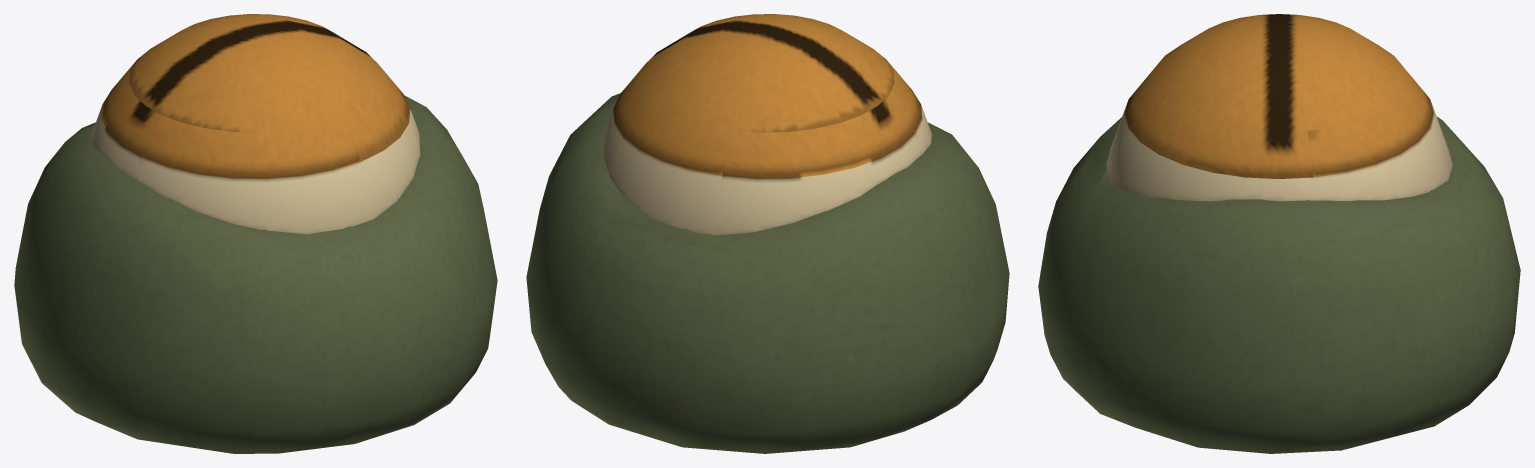
Rendered from cpart_eye_slit.glb.
3 views of the same model, side by side, from view 1: azimuth 30°, elevation 25°; view 2: azimuth 150°, elevation 25°; view 3: azimuth 270°, elevation 25° (orthographic).
Visible parts, largest first — view 1: Lid, EyeSlit; view 2: Lid, EyeSlit; view 3: Lid, EyeSlit.
Boxes of the visible parts, x1,y1,x2,y2 form: Lid: (14,95,497,453); EyeSlit: (91,14,420,234); Lid: (526,93,1009,453); EyeSlit: (603,14,932,235); Lid: (1038,116,1520,453); EyeSlit: (1106,14,1452,201).
Size of the model in its own units: 0.1104 by 0.0852 by 0.1101.
Materials: 3 (3 with a texture image).
